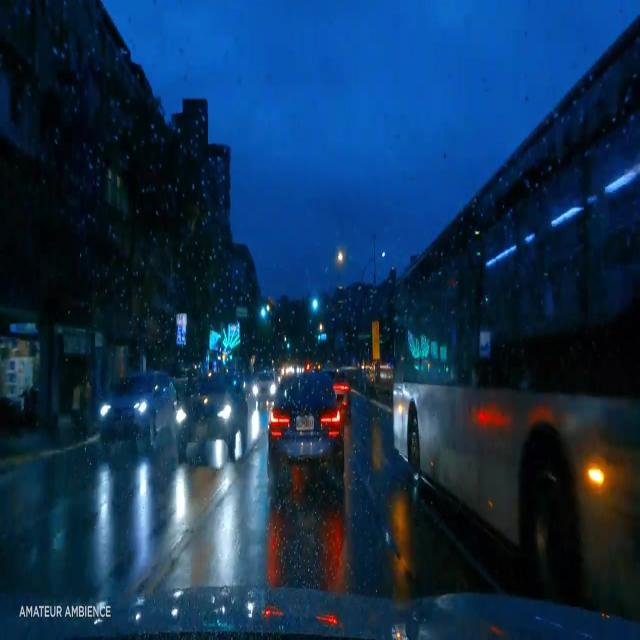Car: (266, 375, 345, 483), (92, 371, 177, 442), (179, 372, 244, 461), (251, 373, 274, 402)
